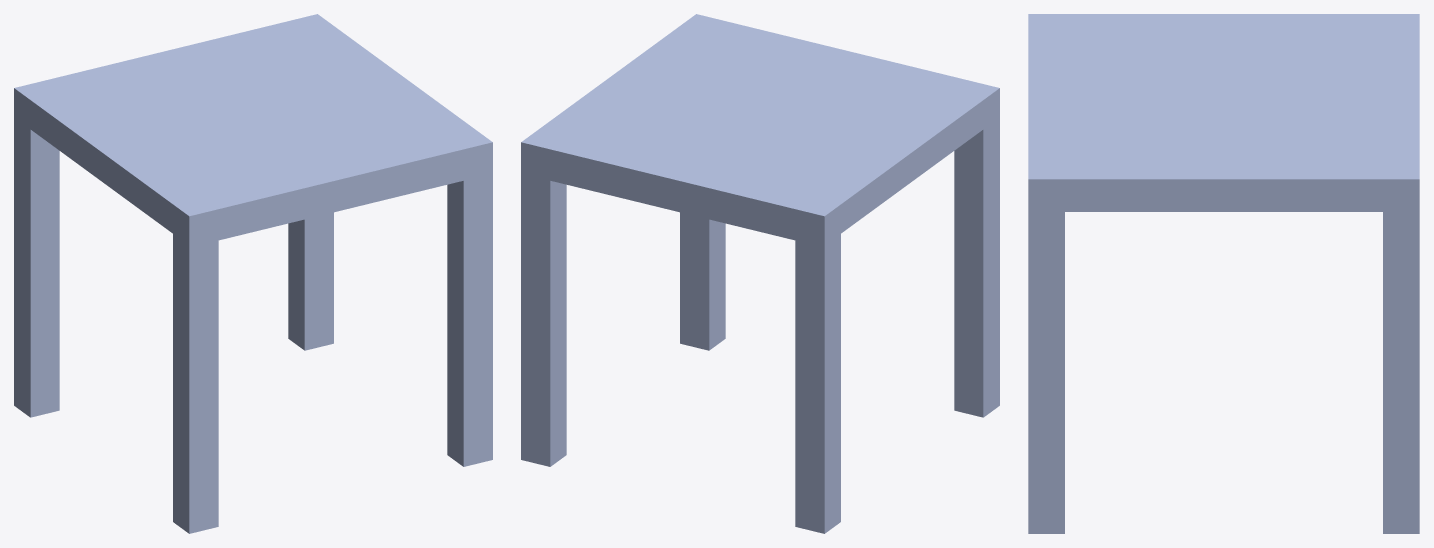
Rendered from VIS_base_link_13 (copy).dae.
3 renders of one model, left to right at view 1: azimuth 30°, elevation 25°; view 2: azimuth 150°, elevation 25°; view 3: azimuth 270°, elevation 25°, orthographic. The views are drawn at different scales.
Visible parts, largest first — view 1: VIS_base_link_13; view 2: VIS_base_link_13; view 3: VIS_base_link_13.
Part boxes in pixels (x1,y1,x2,y2): VIS_base_link_13: [14, 14, 492, 533]; VIS_base_link_13: [521, 14, 999, 533]; VIS_base_link_13: [1028, 14, 1419, 533].
Size of the model in its own units: 1 by 1 by 1.
